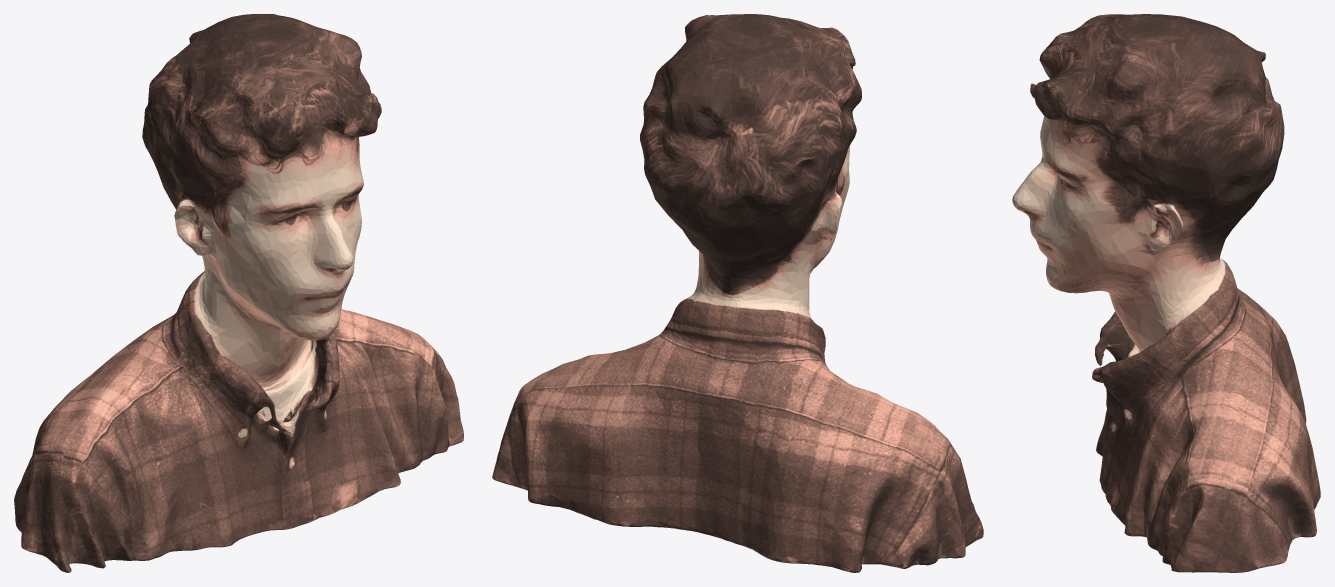
Rendered from leo_beige.gltf.
The picture shows the model from 3 angles, left to right: view 1: azimuth 30°, elevation 25°; view 2: azimuth 150°, elevation 25°; view 3: azimuth 270°, elevation 25°; orthographic projection. The views are drawn at different scales.
Parts seen in each view (by area): view 1: model_mesh; view 2: model_mesh; view 3: model_mesh.
Part boxes in pixels (x1,y1,x2,y2): model_mesh: [14, 14, 463, 572]; model_mesh: [492, 14, 983, 572]; model_mesh: [1012, 14, 1320, 572].
Bounding box in the file's own units: 2.47 × 2.52 × 1.53.
1 material, 1 textured.
